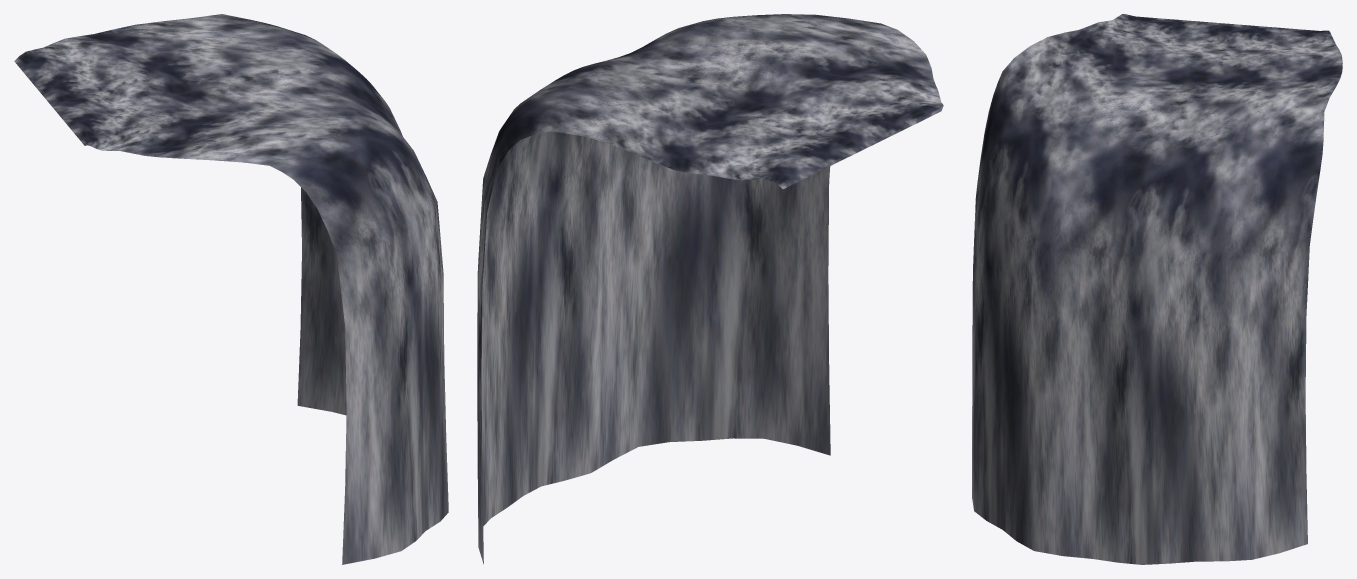
Rendered from TROLLHOLE02_WATER01.obj.
The picture shows the model from 3 angles, left to right: view 1: azimuth 30°, elevation 25°; view 2: azimuth 150°, elevation 25°; view 3: azimuth 270°, elevation 25°; orthographic projection. The views are drawn at different scales.
Visible parts, largest first — view 1: Water01; view 2: Water01; view 3: Water01.
Part boxes in pixels (box(x1,y1,x2,y2)): Water01: box(14, 14, 448, 564); Water01: box(477, 14, 943, 564); Water01: box(972, 14, 1342, 564).
Size of the model in its own units: 3007 by 3470 by 2926.
